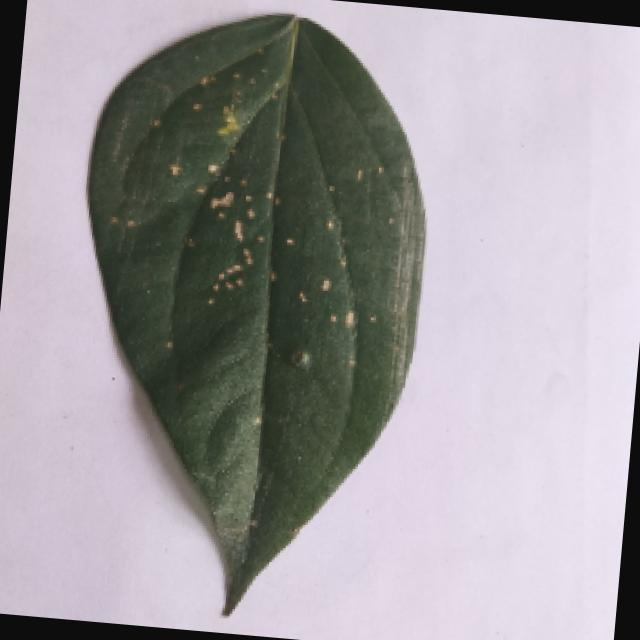pollu-disease: (38, 4, 448, 622)
